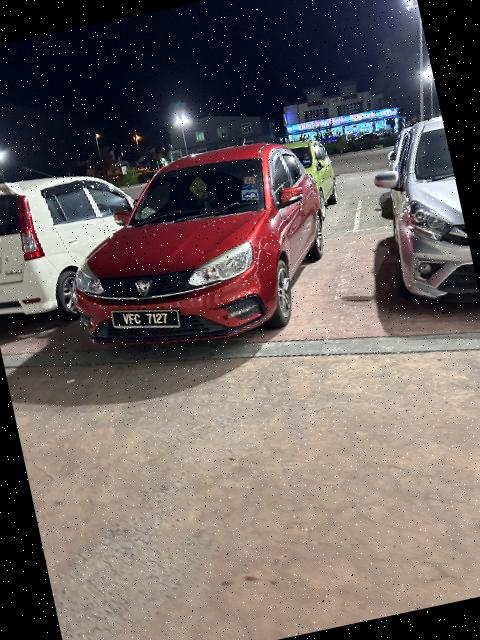License_Plate: (111, 299, 184, 343)
car: (42, 123, 352, 373), (1, 142, 164, 329)
